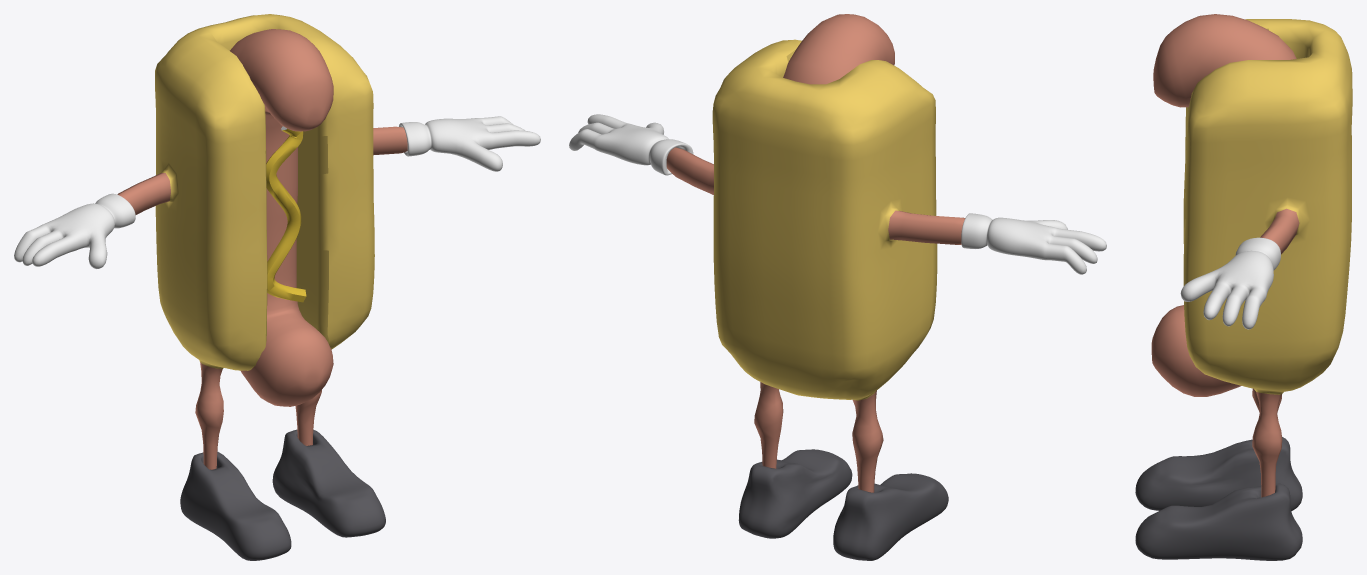
The model's file is hotdog.fbx.
3 views of the same model, side by side, from view 1: azimuth 30°, elevation 25°; view 2: azimuth 150°, elevation 25°; view 3: azimuth 270°, elevation 25° (orthographic). The views are drawn at different scales.
Visible parts, largest first — view 1: Connect, Cylinder, Cube, Cube_2, Sweep_NURBS; view 2: Connect, Cube, Cube_2, Cylinder; view 3: Connect, Cube, Cylinder, Cube_2.
Part boxes in pixels (<box>): Connect: <box>117,14,407,469</box>; Cylinder: <box>230,29,333,406</box>; Cube: <box>180,429,385,560</box>; Cube_2: <box>14,116,540,268</box>; Sweep_NURBS: <box>266,128,306,302</box>; Connect: <box>666,39,965,492</box>; Cube: <box>738,449,948,560</box>; Cube_2: <box>569,114,1106,274</box>; Cylinder: <box>783,14,894,84</box>; Connect: <box>1183,19,1352,497</box>; Cube: <box>1135,437,1302,560</box>; Cylinder: <box>1151,14,1296,396</box>; Cube_2: <box>1180,237,1280,329</box>.
Bounding box in the file's own units: 549 × 510 × 195.
